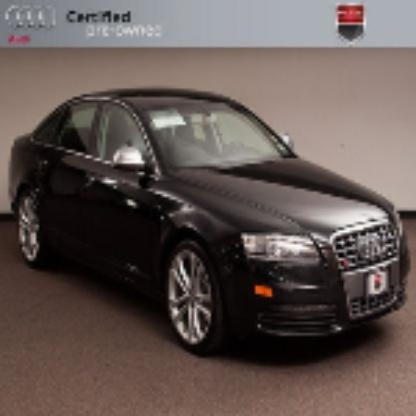Vehicle: (8, 85, 414, 359)
